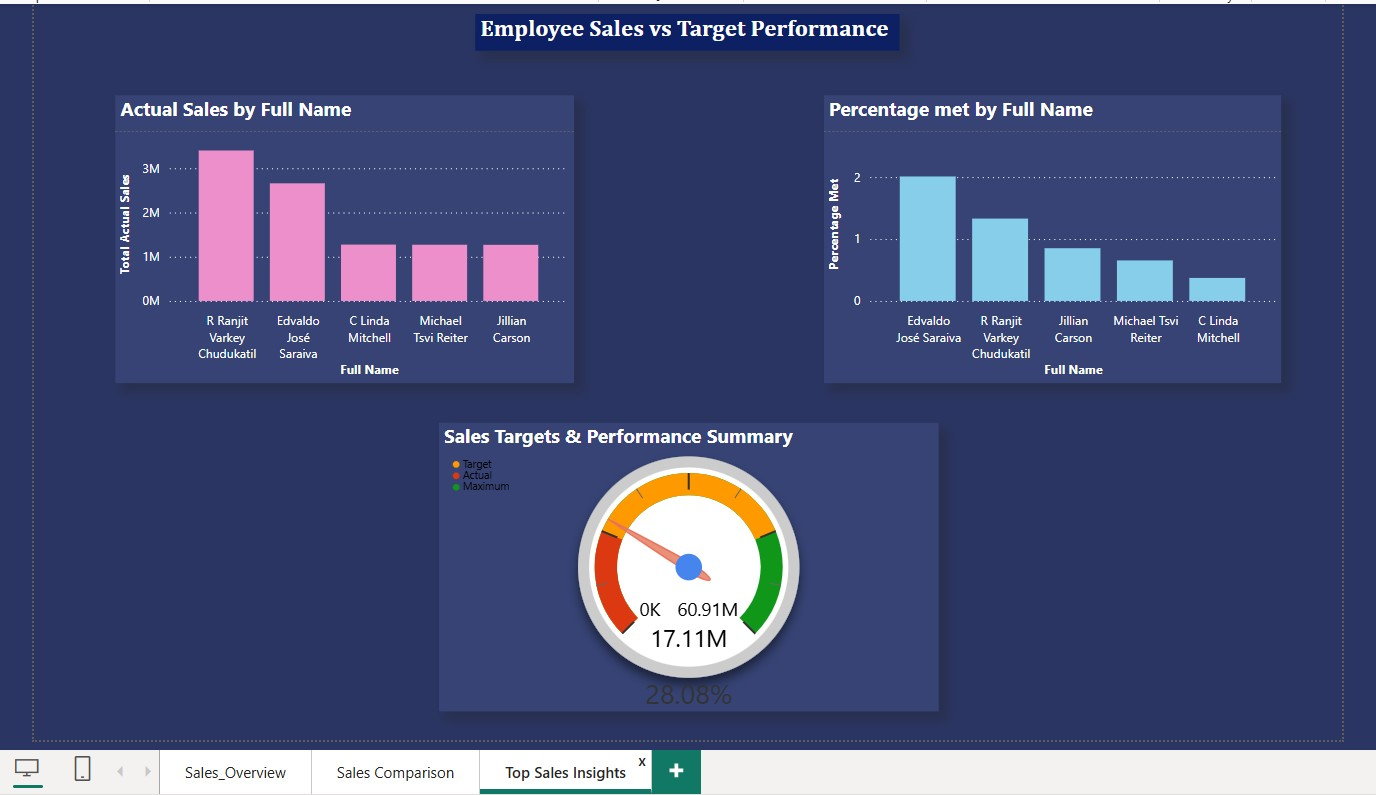

The page's visual inventory and layout, read from the dashboard file:
{"tool":"powerbi","page":{"name":"Top Sales Insights","canvas":[1280,720],"ordinal":2},"visuals":[{"type":"columnChart","title":"Actual Sales by Full Name","fields":{"Category":["DimEmployee.FullName"],"Y":["FactSalesQuota_EmpWiseTargetSales.TotalActualSales"]},"box":[79.5,89.3,448.8,281.3],"z":0},{"type":"dg5AAA90EFEFE747CB9357C4FC19B85A58","title":"Sales Targets & Performance Summary","fields":{"max":["FactSalesQuota_EmpWiseTargetSales.TotalTargetSales"],"yellowStart":["FactSalesQuota.AveragePerformance"],"redEnd":["FactSalesQuota.BelowPerformance"],"pointerValue":["FactSalesQuota_EmpWiseTargetSales.TotalActualSales"],"percentage":["FactSalesQuota_EmpWiseTargetSales.Percentage_met"]},"box":[396.2,409.6,489.1,282.5],"z":1000},{"type":"columnChart","title":"Percentage met by Full Name","fields":{"Category":["DimEmployee.FullName"],"Y":["FactSalesQuota_EmpWiseTargetSales.Percentage_met"]},"box":[772.8,89.3,447.6,281.3],"z":2000},{"type":"textbox","title":"Employee Sales vs Target Performance","box":[431.9,10.3,415.2,36.1],"z":3000}]}

Visuals, with their boxes on the page's 1280x720 design canvas (x1, y1, x2, y2). These are canvas units, not pixel positions in the 1376x795 screenshot, which may show the page scaled, cropped or inside an application window:
"Actual Sales by Full Name" columnChart: select_region(80, 89, 528, 371)
"Sales Targets & Performance Summary" dg5AAA90EFEFE747CB9357C4FC19B85A58: select_region(396, 410, 885, 692)
"Percentage met by Full Name" columnChart: select_region(773, 89, 1220, 371)
"Employee Sales vs Target Performance" textbox: select_region(432, 10, 847, 46)
